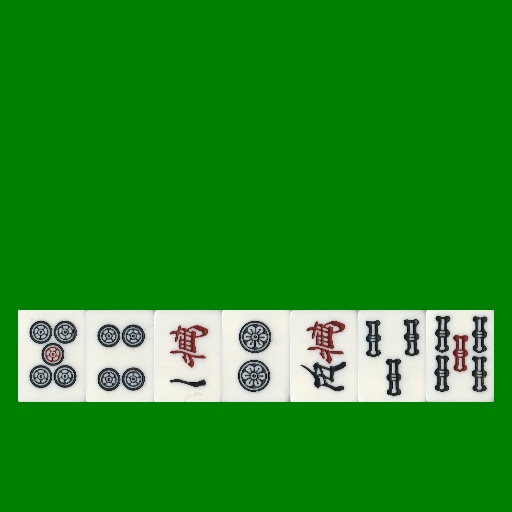1m: (154, 310, 222, 402)
2p: (222, 310, 290, 402)
3s: (358, 310, 426, 402)
4p: (86, 310, 154, 402)
5m: (290, 310, 358, 402)
5p: (18, 310, 86, 402)
5s: (426, 310, 494, 402)
